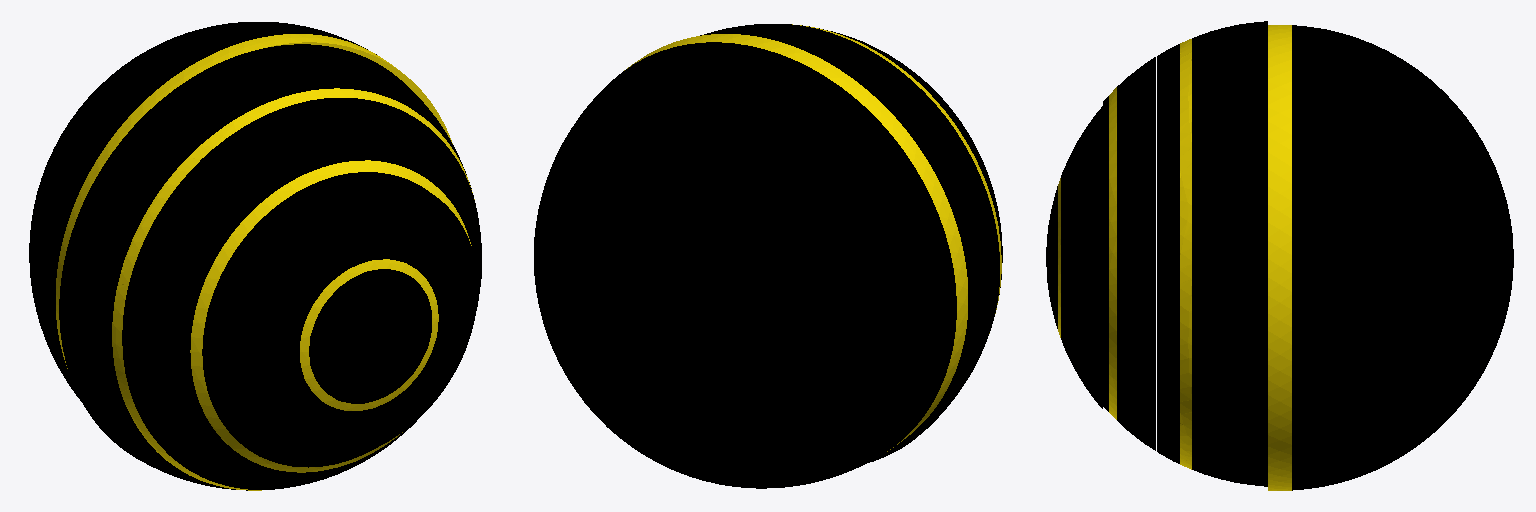
File: Ball_Level1.obj
3 renders of one model, left to right at view 1: azimuth 30°, elevation 25°; view 2: azimuth 150°, elevation 25°; view 3: azimuth 270°, elevation 25°, orthographic.
Visible parts, largest first — view 1: Object.12, Object.11, Object.10, Object.13, Object.8, Object.1, Object.5, Object.3, Object.7, Object.4, Object.9, Object.2 (+1 smaller); view 2: Object.1, Object.3, Object.2, Object.5, Object.4, Object.11; view 3: Object.1, Object.11, Object.3, Object.5, Object.2, Object.8, Object.4, Object.12, Object.13, Object.7, Object.9, Object.6 (+1 smaller).
Boxes of the visible parts, box(x1,y1,x2,y2) form: Object.12: box(237, 196, 470, 452); Object.11: box(112, 88, 481, 490); Object.10: box(300, 259, 438, 410); Object.13: box(202, 172, 477, 467); Object.8: box(163, 135, 480, 481); Object.1: box(29, 22, 376, 401); Object.5: box(89, 68, 475, 490); Object.3: box(59, 44, 423, 474); Object.7: box(150, 123, 481, 485); Object.4: box(77, 58, 453, 480); Object.9: box(190, 160, 471, 472); Object.2: box(56, 34, 452, 368); Object.1: box(534, 42, 956, 488); Object.3: box(701, 28, 987, 462); Object.2: box(624, 34, 967, 451); Object.5: box(745, 24, 999, 376); Object.4: box(700, 25, 993, 394); Object.11: box(792, 24, 1002, 333); Object.1: box(1292, 25, 1513, 490); Object.11: box(1157, 39, 1191, 469); Object.3: box(1239, 21, 1267, 486); Object.5: box(1192, 28, 1221, 479); Object.2: box(1268, 25, 1291, 490); Object.8: box(1117, 68, 1139, 439); Object.4: box(1222, 25, 1238, 482); Object.12: box(1061, 122, 1090, 393); Object.13: box(1091, 96, 1108, 411); Object.7: box(1140, 60, 1150, 447); Object.9: box(1109, 87, 1116, 419); Object.6: box(1151, 57, 1155, 450).
Bounding box in the file's own units: 1 × 1 × 1.